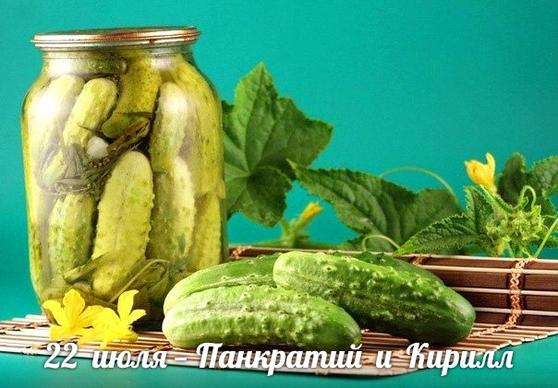cucumber: (167, 287, 360, 354), (176, 61, 233, 192), (101, 144, 149, 295), (49, 190, 90, 300), (65, 74, 116, 147), (122, 51, 155, 145), (188, 192, 222, 272)
